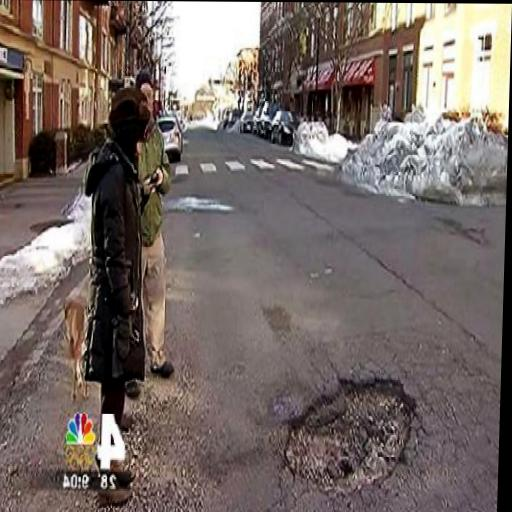pothole: (281, 369, 421, 491)
